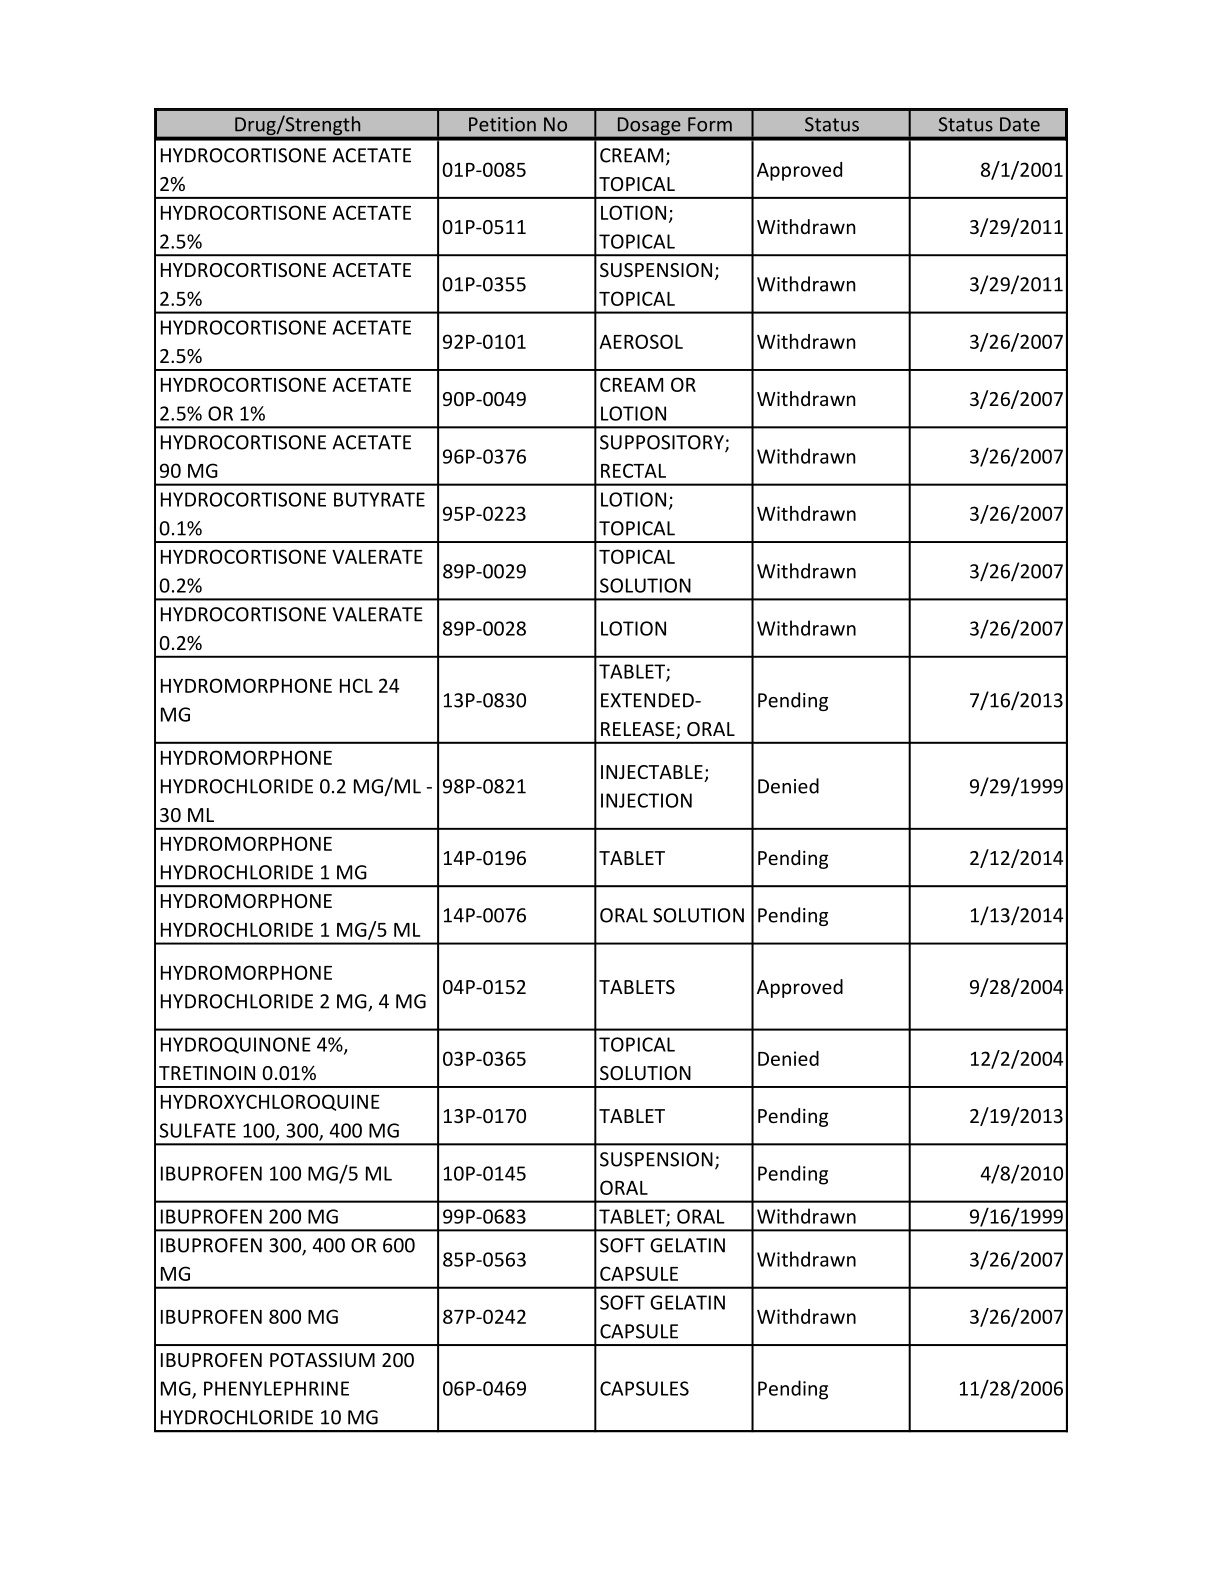full_lined: (154, 108, 1068, 1434)
